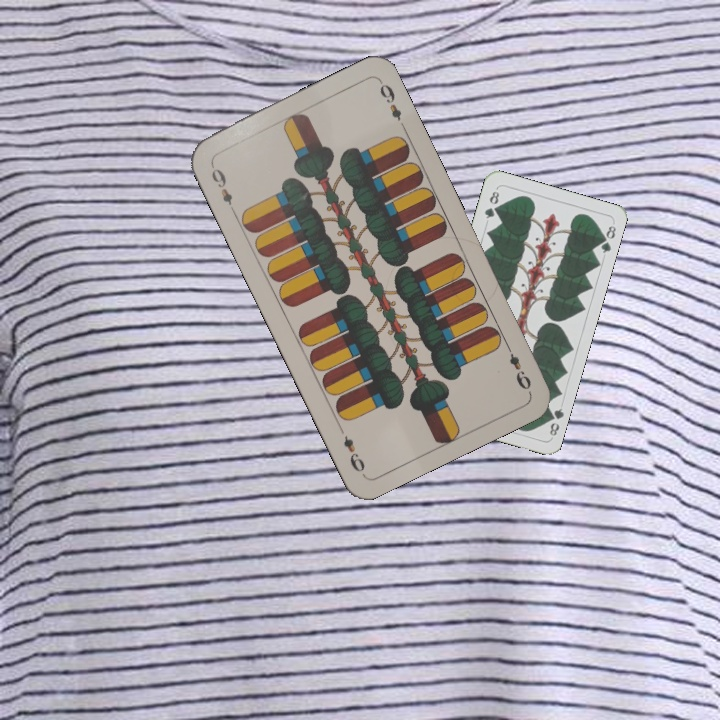E9: (206, 160, 238, 216), (501, 339, 534, 393)
G8: (543, 404, 566, 438), (480, 187, 502, 221)
